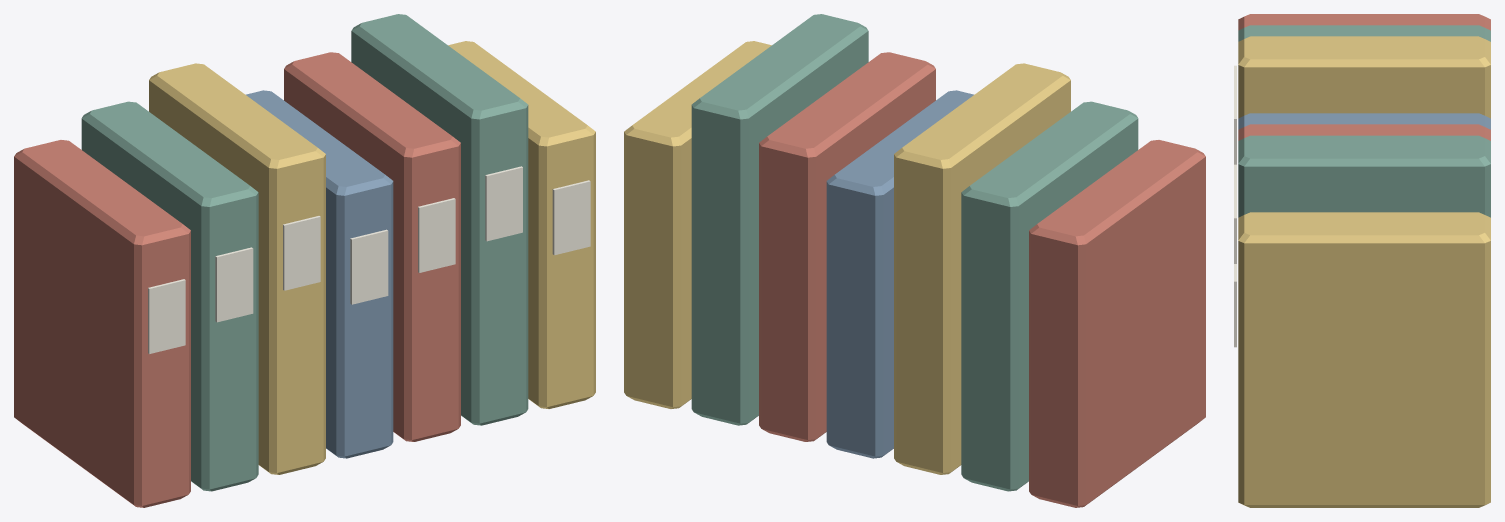
Rendered from lab_binder_row.glb.
3 views of the same model, side by side, from view 1: azimuth 30°, elevation 25°; view 2: azimuth 150°, elevation 25°; view 3: azimuth 270°, elevation 25° (orthographic).
Parts seen in each view (by area): view 1: lab_binder_row; view 2: lab_binder_row; view 3: lab_binder_row.
Boxes of the visible parts, box(x1,y1,x2,y2) form: lab_binder_row: box(14, 14, 595, 507); lab_binder_row: box(624, 14, 1205, 507); lab_binder_row: box(1234, 14, 1490, 507).
Size of the model in its own units: 0.89 by 0.58 by 0.427.
